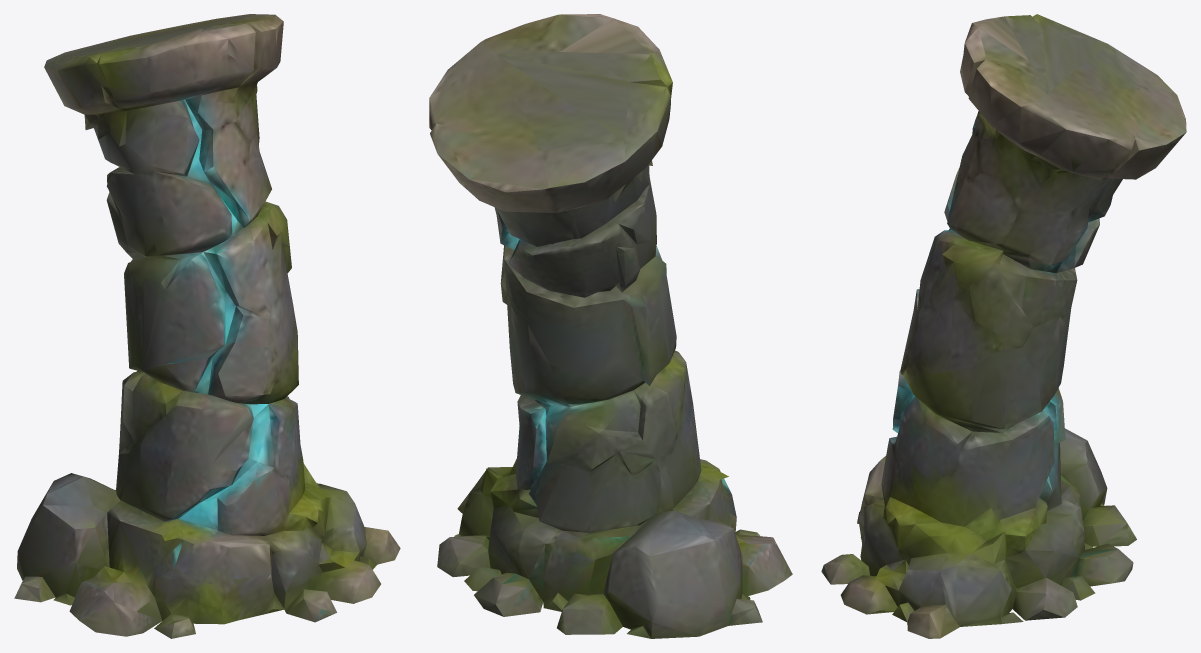
The model's file is columna_agrietada_1500.glb.
The picture shows the model from 3 angles, left to right: view 1: azimuth 30°, elevation 25°; view 2: azimuth 150°, elevation 25°; view 3: azimuth 270°, elevation 25°; orthographic projection. The views are drawn at different scales.
Parts seen in each view (by area): view 1: columna_agrietada_malla; view 2: columna_agrietada_malla; view 3: columna_agrietada_malla.
Boxes of the visible parts, box(x1,y1,x2,y2) form: columna_agrietada_malla: box(14, 14, 400, 638); columna_agrietada_malla: box(429, 14, 792, 638); columna_agrietada_malla: box(821, 14, 1186, 638).
Size of the model in its own units: 0.2503 by 0.3784 by 0.237.
1 material, 1 textured.
